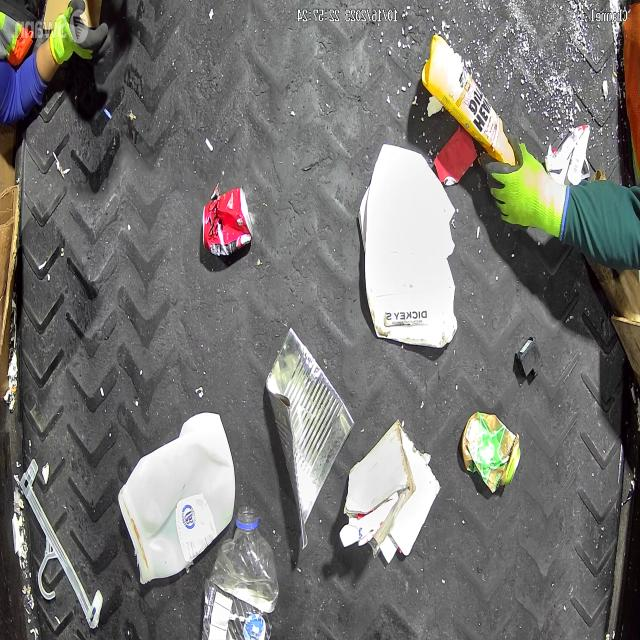can: (267, 325, 355, 554), (460, 412, 522, 486), (202, 185, 253, 256)
milk_jug: (118, 412, 236, 585)
non_white_jug: (421, 32, 517, 170)
plastic_bottle: (202, 506, 278, 640)
